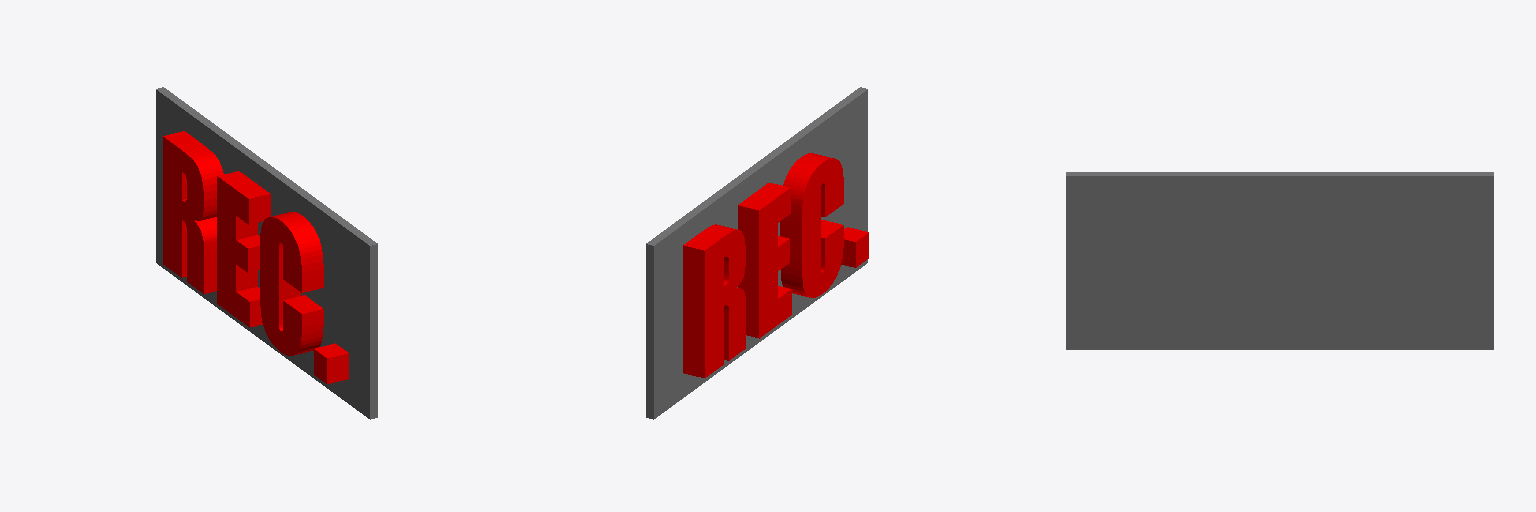
File: REC.obj
The picture shows the model from 3 angles: view 1: azimuth 30°, elevation 25°; view 2: azimuth 150°, elevation 25°; view 3: azimuth 270°, elevation 25°; orthographic projection.
Parts seen in each view (by area): view 1: pasted__REC_Schild pasted__REC1, pasted__Schild pasted__REC_Schild; view 2: pasted__REC_Schild pasted__REC1, pasted__Schild pasted__REC_Schild; view 3: pasted__Schild pasted__REC_Schild.
Part boxes in pixels (x1,y1,x2,y2): pasted__REC_Schild pasted__REC1: (163,131,348,383); pasted__Schild pasted__REC_Schild: (156,87,377,419); pasted__REC_Schild pasted__REC1: (683,153,868,377); pasted__Schild pasted__REC_Schild: (646,87,867,419); pasted__Schild pasted__REC_Schild: (1066,172,1493,349).
Size of the model in its own units: 0.0373 by 0.2063 by 0.4617.